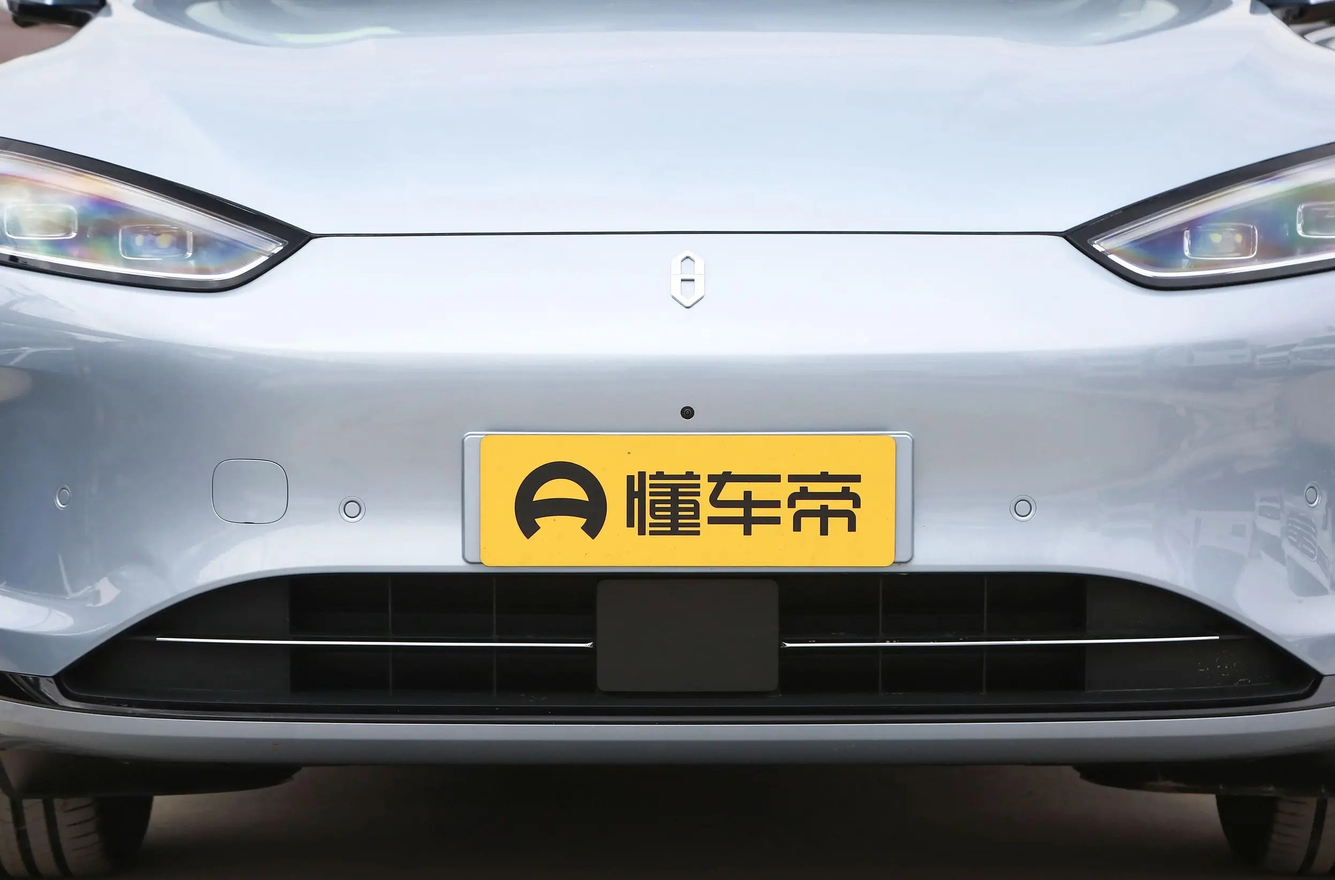AITO: (671, 251, 704, 307)
